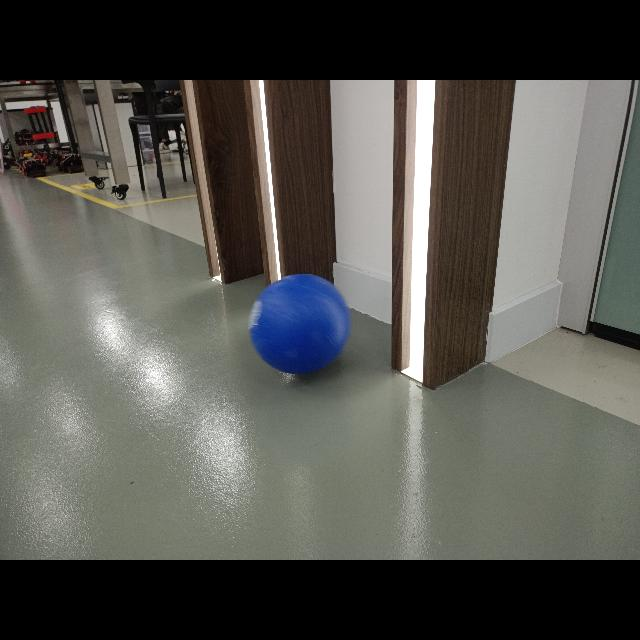B: (249, 274, 349, 374)
